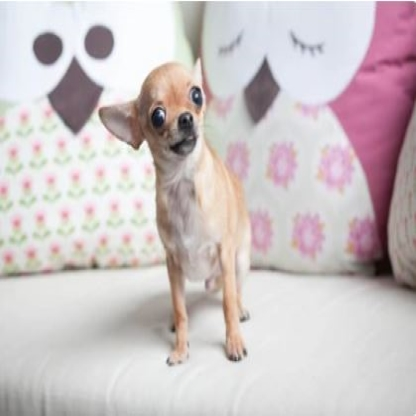chihuahua: (94, 56, 257, 369)
